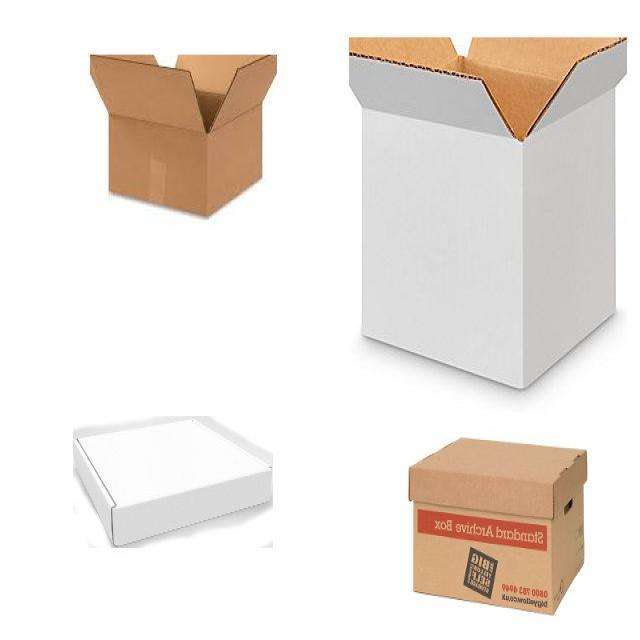box: (360, 48, 616, 386), (409, 438, 585, 614), (74, 420, 271, 544), (106, 69, 260, 216)
